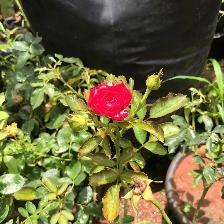rose: (85, 81, 136, 124)
